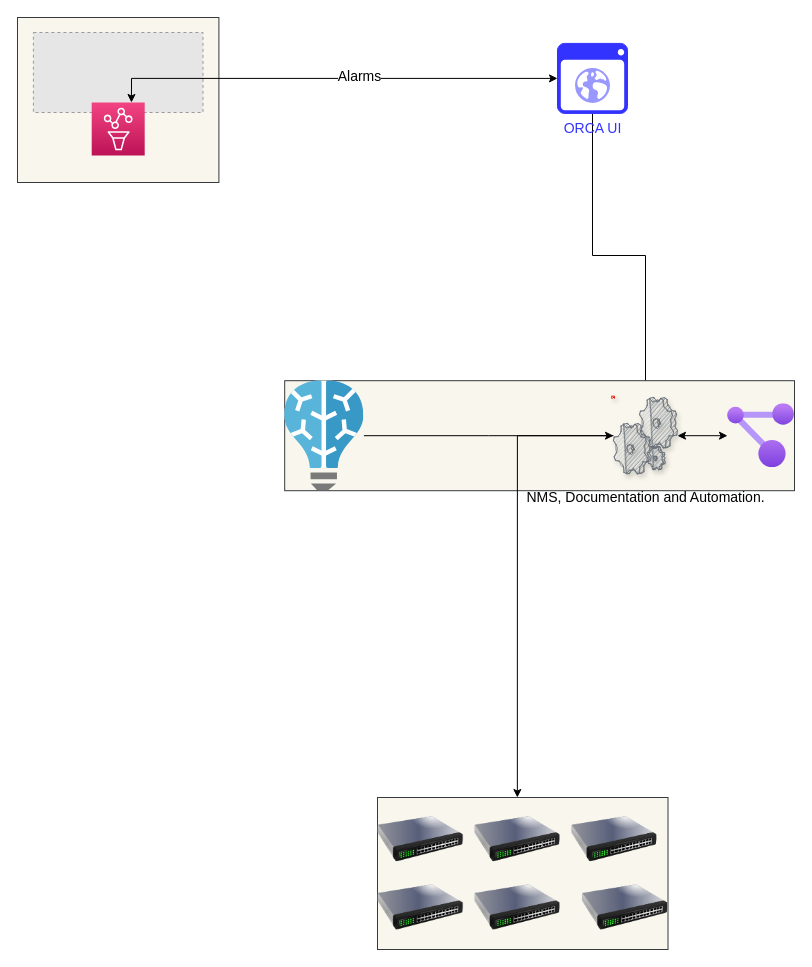
Some shapes in this 812 by 967 pixel diagram are drawn without their labels. Grey dashed boxes stand in for pictures. Here are the shapes that lost their labels. From the top down, the centre of each, then its label:
At point (118, 129): "Prometheus Time Series DB".
At point (323, 435): "AI Engine Data Hungry Application has access to all Databases".
